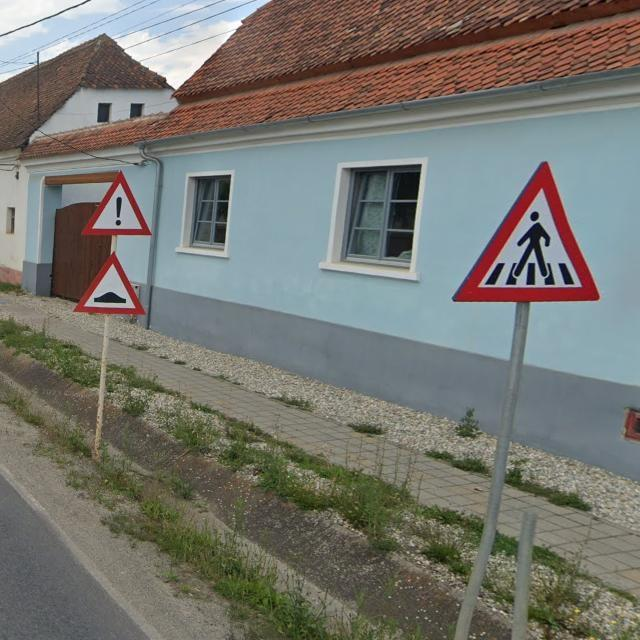warn_crosswalk: (452, 161, 600, 302)
